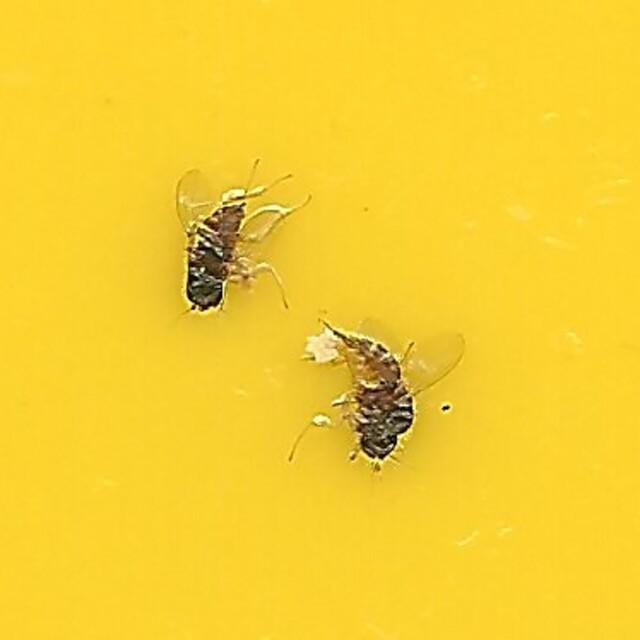Brachycera: (318, 323, 469, 471), (171, 169, 284, 318)
